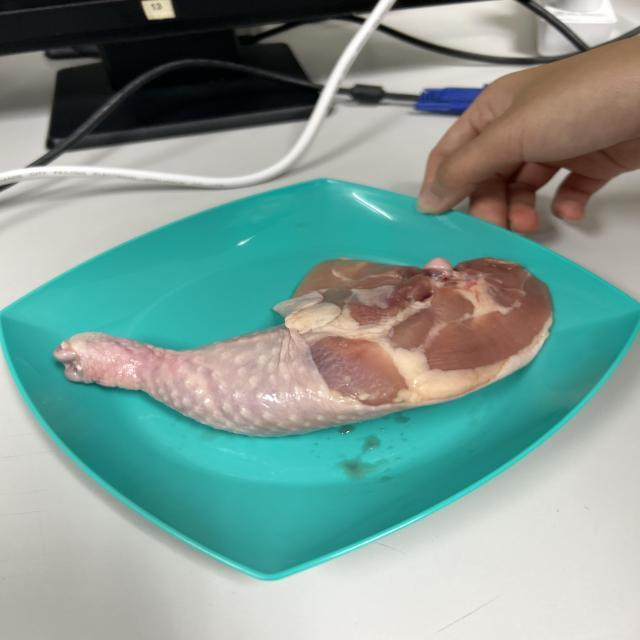quater: (49, 246, 562, 437)
